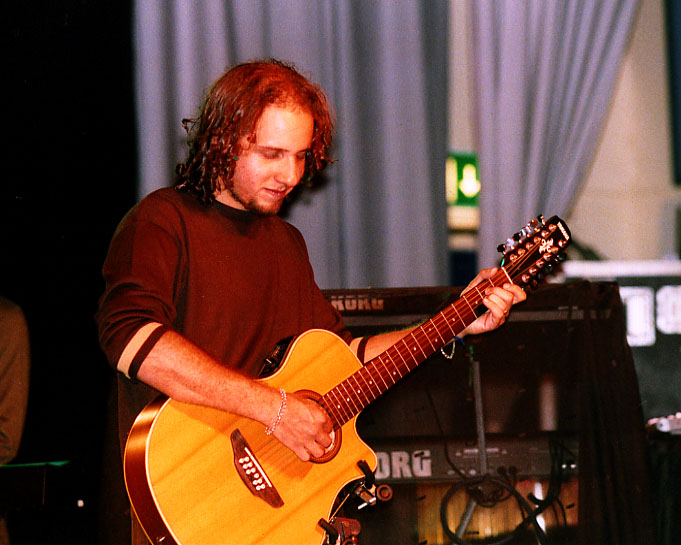guitar: (121, 214, 574, 545)
